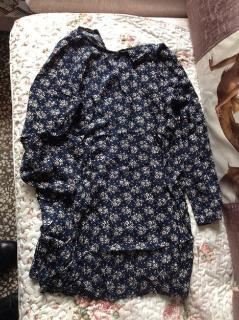long sleeve dress: (19, 26, 223, 302)
